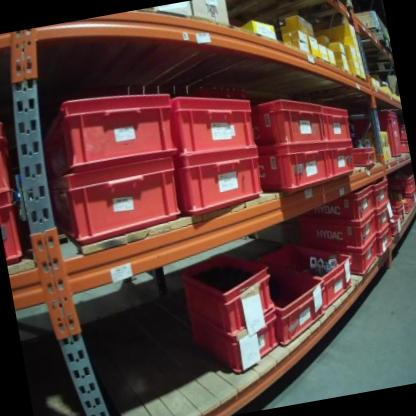pallet: (225, 0, 359, 48), (349, 28, 392, 62), (366, 59, 395, 76)
small_load_carrier: (38, 83, 179, 178), (50, 158, 184, 248), (177, 245, 279, 343), (169, 80, 260, 169), (269, 233, 358, 319), (173, 145, 266, 216), (269, 254, 334, 350), (253, 92, 328, 159), (257, 140, 333, 197), (294, 186, 379, 235), (204, 328, 284, 380), (305, 213, 382, 260), (352, 108, 405, 165), (0, 197, 26, 264), (343, 239, 386, 275), (322, 102, 354, 150), (0, 121, 15, 204), (327, 147, 356, 178), (384, 169, 415, 197), (371, 175, 390, 212), (390, 193, 416, 218), (353, 142, 377, 168), (377, 226, 397, 252), (374, 210, 394, 232), (392, 198, 406, 225), (391, 216, 405, 237), (403, 193, 416, 210), (399, 122, 406, 138), (402, 136, 408, 151)
